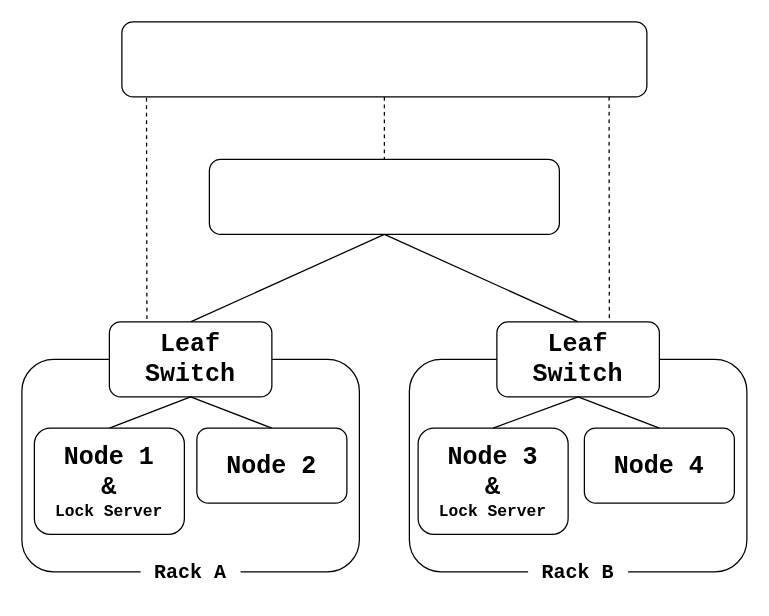
This 769x616 diagram has some shape labels left out. The shapes that lost their labels are listed below. From the top down, each one's centre as x and y in pixels, then its label:
the point at 384,59: Control Plane
the point at 383,196: Spine Switch (Priority Tagging + Rate Limiting)
